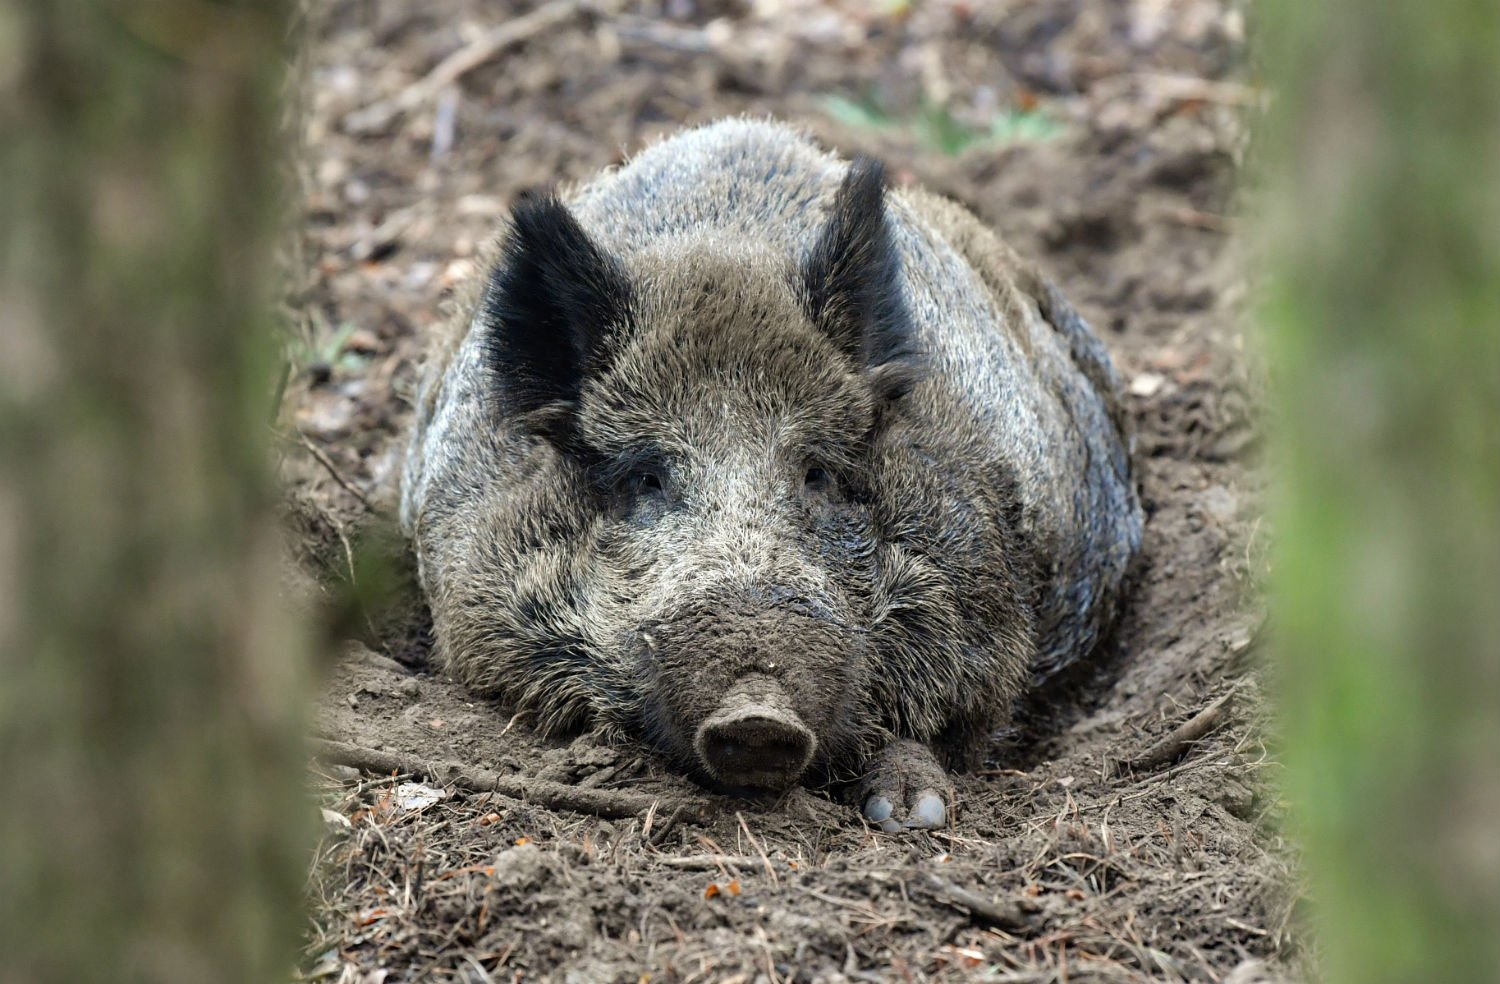boar: (383, 93, 1168, 849)
